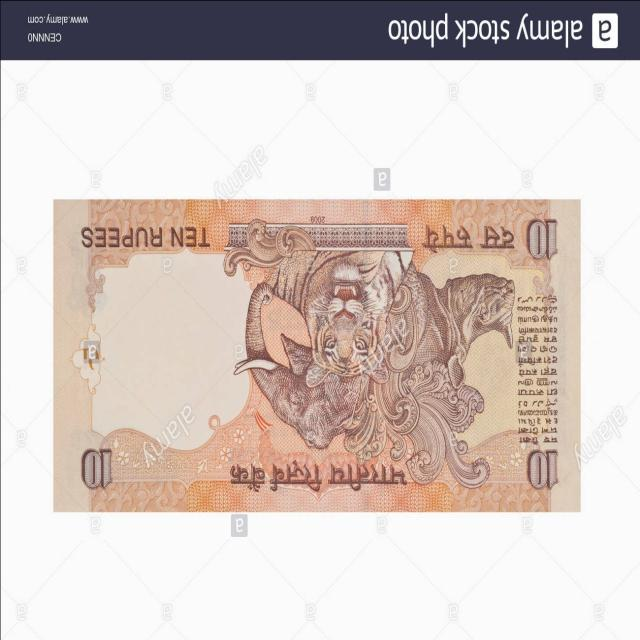10IndianRupees: (58, 202, 578, 515)
